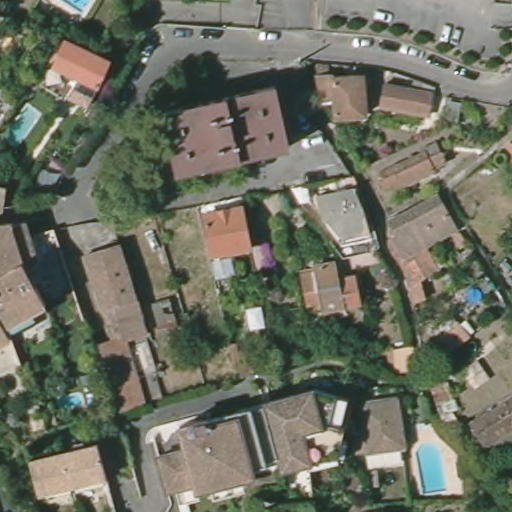pool: (408, 436, 454, 499), (5, 99, 44, 148), (49, 385, 91, 422), (43, 1, 104, 18), (464, 280, 487, 306)
